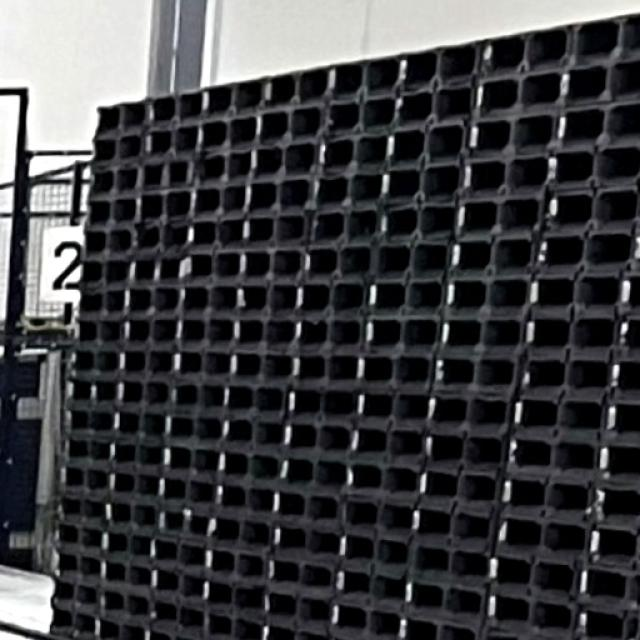igps: (476, 22, 572, 78), (486, 546, 580, 602), (493, 509, 588, 564), (392, 37, 484, 91), (499, 471, 594, 523), (542, 184, 640, 234), (481, 587, 573, 640), (509, 391, 604, 439), (532, 229, 632, 274), (504, 433, 596, 481), (522, 312, 617, 357), (544, 145, 640, 189), (402, 572, 486, 621), (472, 70, 562, 115), (568, 8, 640, 64), (459, 154, 550, 198), (558, 60, 640, 108), (551, 102, 640, 146), (410, 503, 495, 549), (390, 82, 474, 128), (407, 538, 487, 586), (467, 114, 558, 156), (425, 387, 511, 431), (447, 235, 534, 278), (443, 275, 528, 319), (453, 195, 544, 236), (438, 314, 524, 357), (415, 468, 500, 511), (343, 454, 418, 502), (432, 352, 518, 393), (323, 50, 396, 98), (365, 276, 444, 319), (348, 424, 423, 469), (421, 433, 507, 472), (384, 126, 467, 166), (340, 492, 410, 539), (374, 202, 456, 242), (351, 387, 426, 430), (370, 240, 450, 280), (332, 558, 403, 603), (336, 530, 409, 572), (360, 318, 438, 357), (258, 64, 324, 110), (378, 166, 462, 202), (260, 584, 328, 628), (354, 351, 434, 388), (284, 384, 356, 424), (307, 205, 376, 246), (268, 521, 337, 562), (328, 598, 395, 640), (192, 113, 255, 157), (578, 562, 640, 606), (265, 552, 333, 592), (293, 280, 366, 317), (312, 168, 379, 208), (313, 135, 385, 172), (200, 75, 261, 118), (395, 609, 479, 640), (323, 96, 393, 133), (270, 488, 340, 525), (584, 525, 640, 571), (278, 450, 344, 489), (240, 212, 310, 248), (252, 110, 326, 144), (236, 246, 302, 284), (574, 602, 640, 640), (301, 246, 374, 280), (200, 576, 262, 616), (203, 512, 270, 549), (291, 318, 363, 352), (220, 380, 286, 417), (247, 142, 316, 177), (156, 468, 215, 508), (589, 478, 640, 524), (233, 280, 293, 319), (142, 87, 202, 126), (280, 422, 348, 456), (289, 351, 355, 386), (202, 544, 266, 580), (588, 443, 640, 487), (227, 345, 290, 381), (215, 446, 278, 482), (220, 414, 281, 451), (168, 376, 224, 416), (148, 531, 204, 571), (240, 180, 309, 212), (89, 99, 147, 137), (231, 313, 291, 349), (126, 252, 186, 287), (212, 479, 270, 515), (192, 148, 250, 184), (73, 227, 136, 260), (84, 132, 145, 166), (46, 574, 100, 612), (599, 391, 640, 441), (161, 442, 217, 478), (58, 345, 119, 378), (163, 412, 222, 446), (150, 596, 203, 633), (122, 280, 178, 315), (84, 164, 141, 198), (150, 566, 202, 603), (48, 547, 100, 584), (200, 608, 260, 640), (188, 185, 244, 219), (50, 490, 106, 524), (50, 463, 109, 495), (99, 585, 150, 622), (185, 217, 242, 250), (130, 220, 187, 253), (182, 252, 240, 284), (58, 376, 116, 408), (51, 434, 109, 466), (142, 123, 196, 157), (102, 498, 156, 532), (174, 318, 233, 349), (171, 350, 230, 381), (178, 284, 235, 316), (105, 467, 157, 501), (100, 526, 150, 561), (80, 197, 138, 227), (55, 406, 113, 436), (99, 555, 150, 589), (48, 602, 94, 639), (112, 406, 164, 438), (156, 506, 207, 538), (114, 378, 170, 407), (605, 353, 640, 399), (134, 192, 190, 220), (118, 346, 172, 375), (108, 440, 162, 469), (49, 521, 101, 551), (134, 160, 188, 188), (73, 258, 127, 286), (73, 288, 123, 318), (121, 319, 176, 346), (259, 621, 333, 640), (72, 320, 123, 347), (93, 616, 145, 640), (615, 314, 640, 358), (615, 275, 640, 317), (142, 625, 196, 640)
